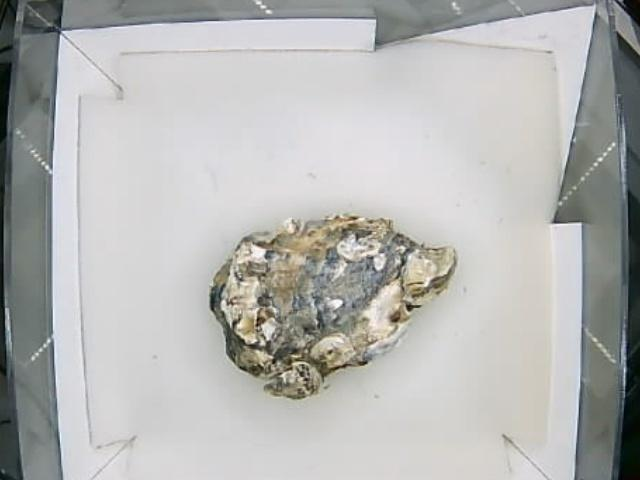Shell: (210, 216, 455, 400)
